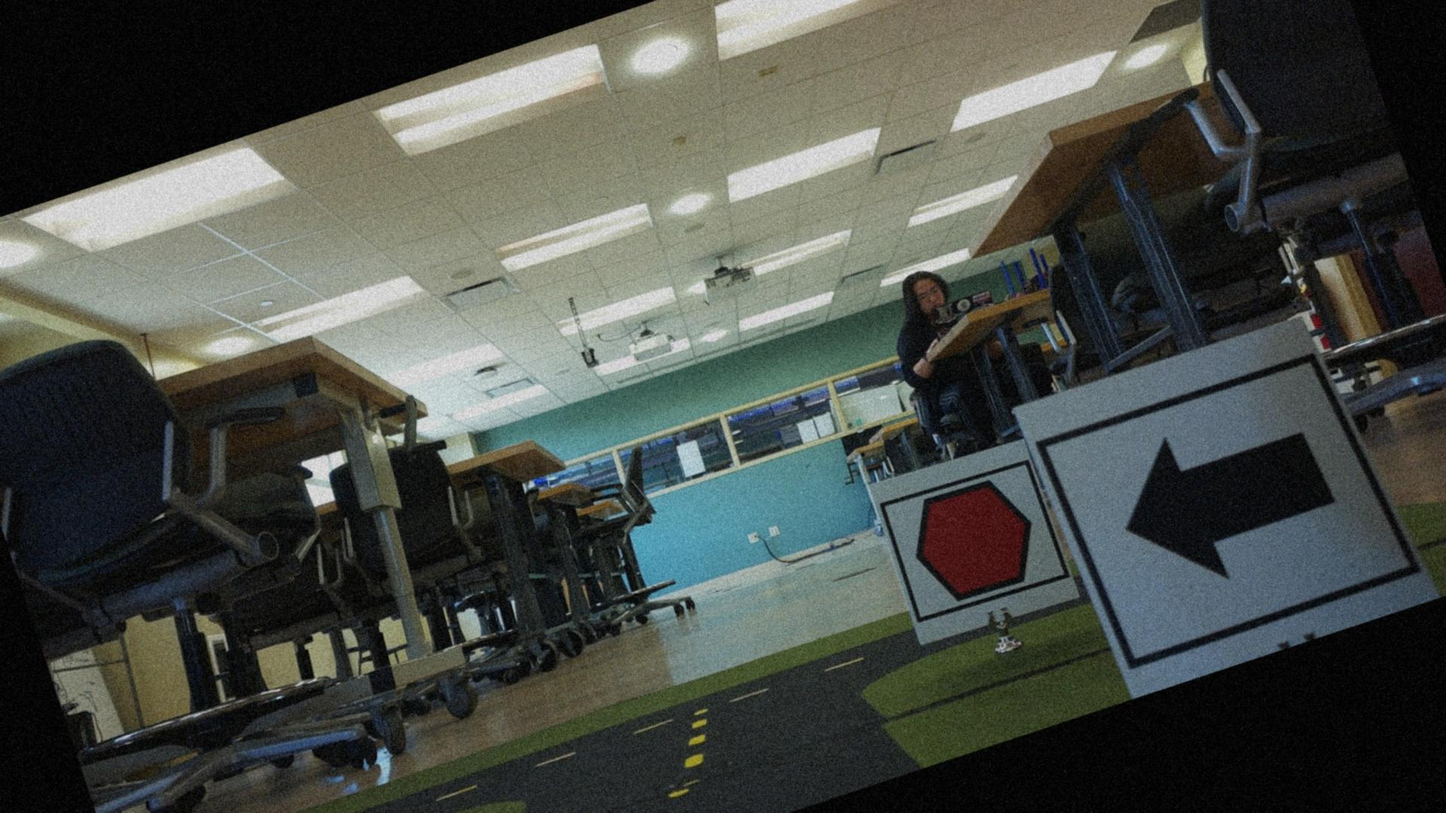stop: (885, 461, 1062, 623)
turnright: (1052, 356, 1394, 668)
yellowline: (629, 715, 737, 812)
